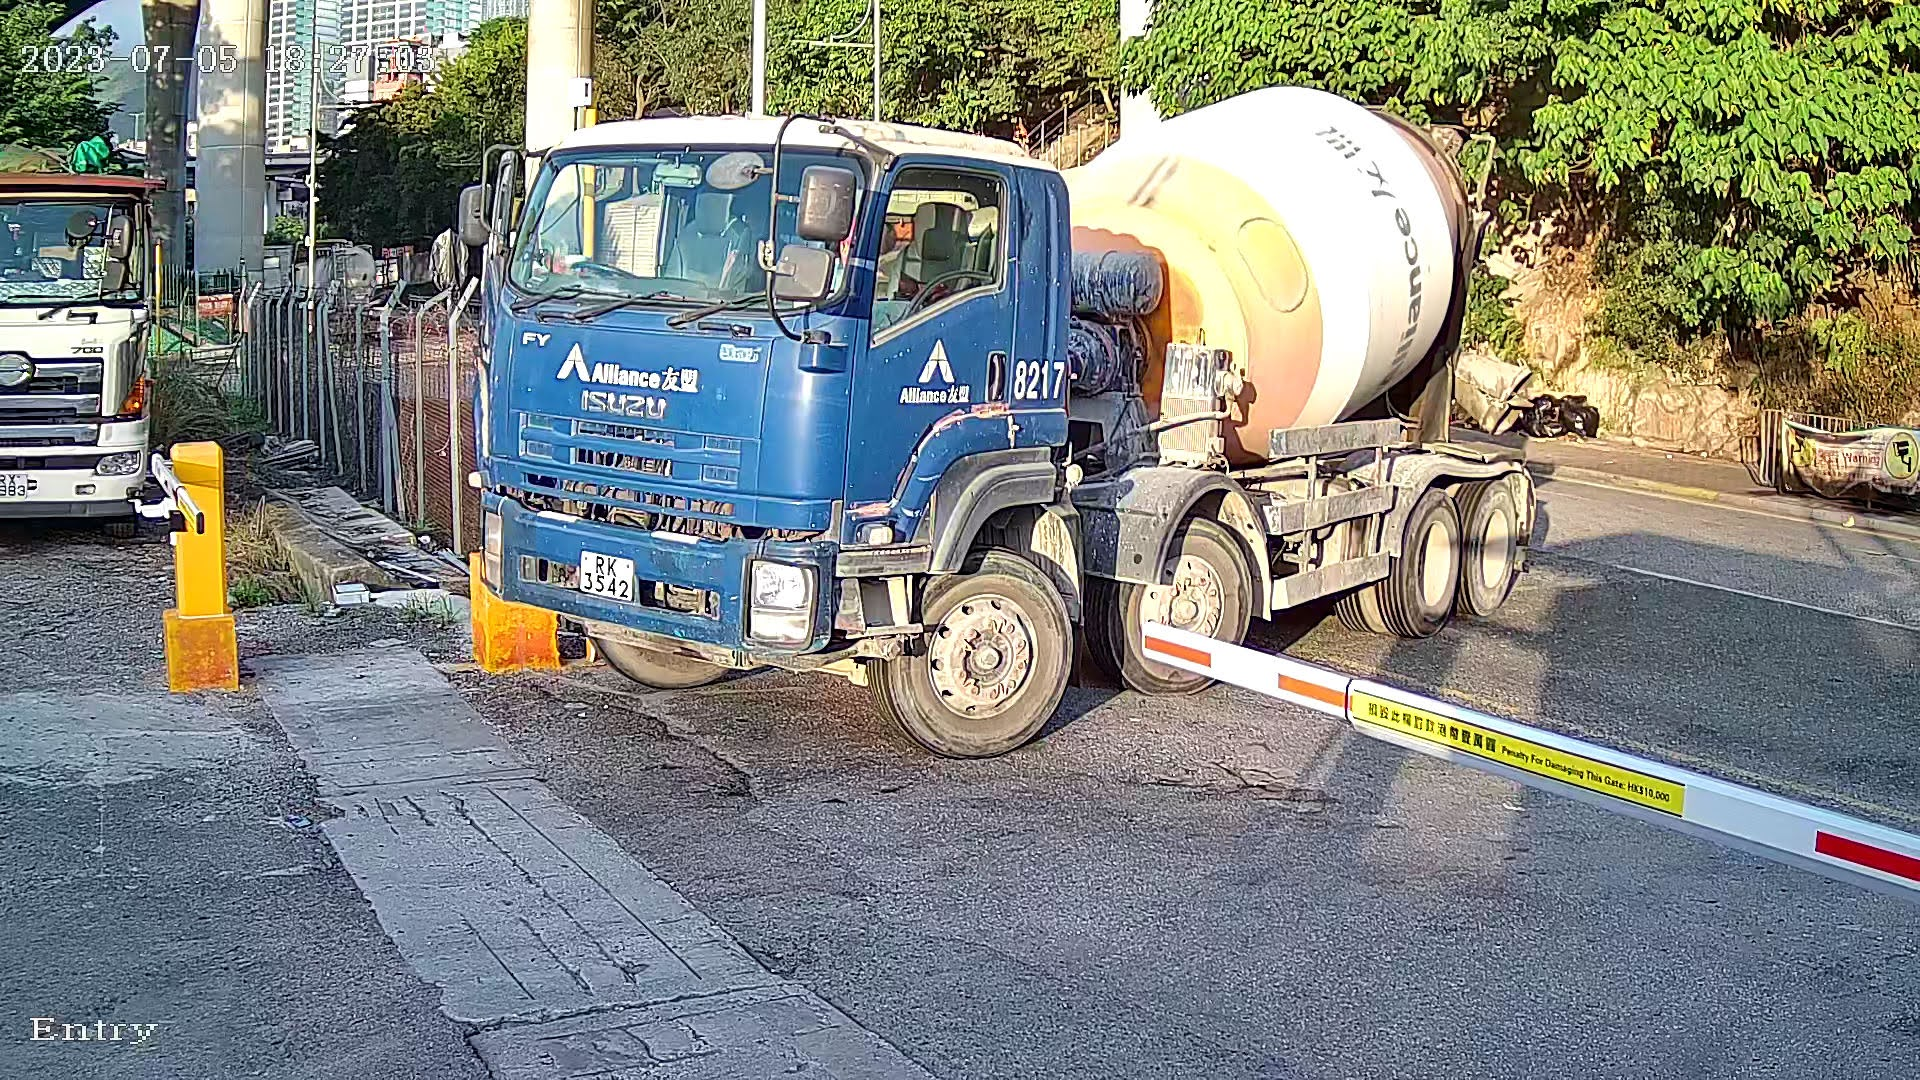truck: (429, 22, 1611, 742)
